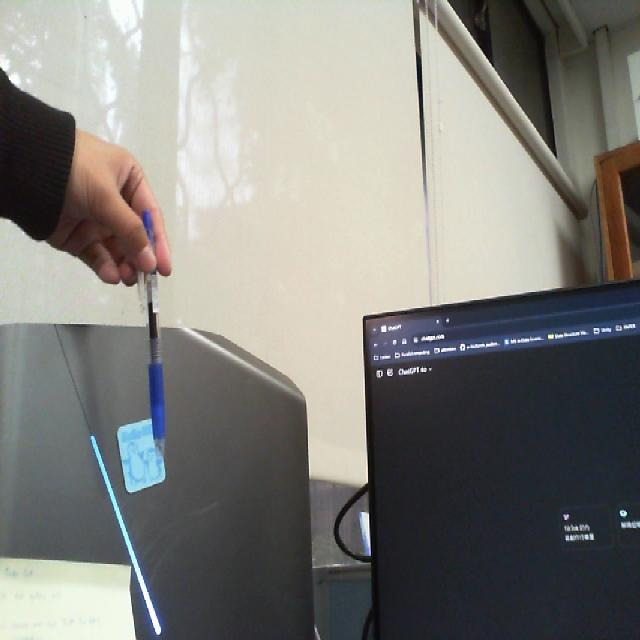Pen: (130, 185, 174, 481)
